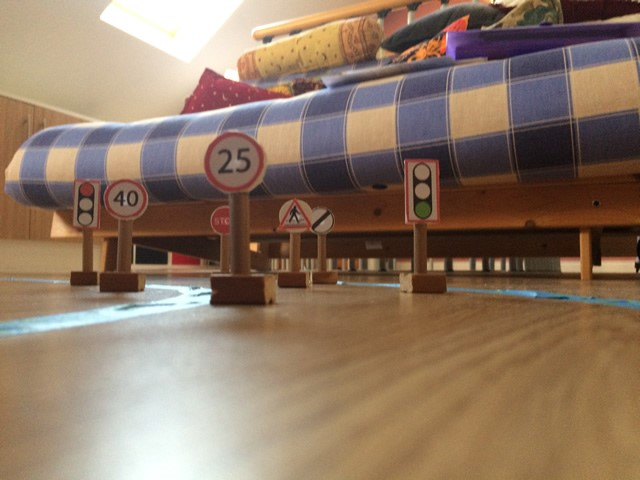Green Traffic Light: (405, 160, 441, 221)
Person Crossing: (280, 199, 311, 234)
Red Traffic Light: (73, 176, 100, 231)
Speed Limit 25: (206, 132, 267, 193)
Speed Limit 40: (104, 178, 150, 220)
